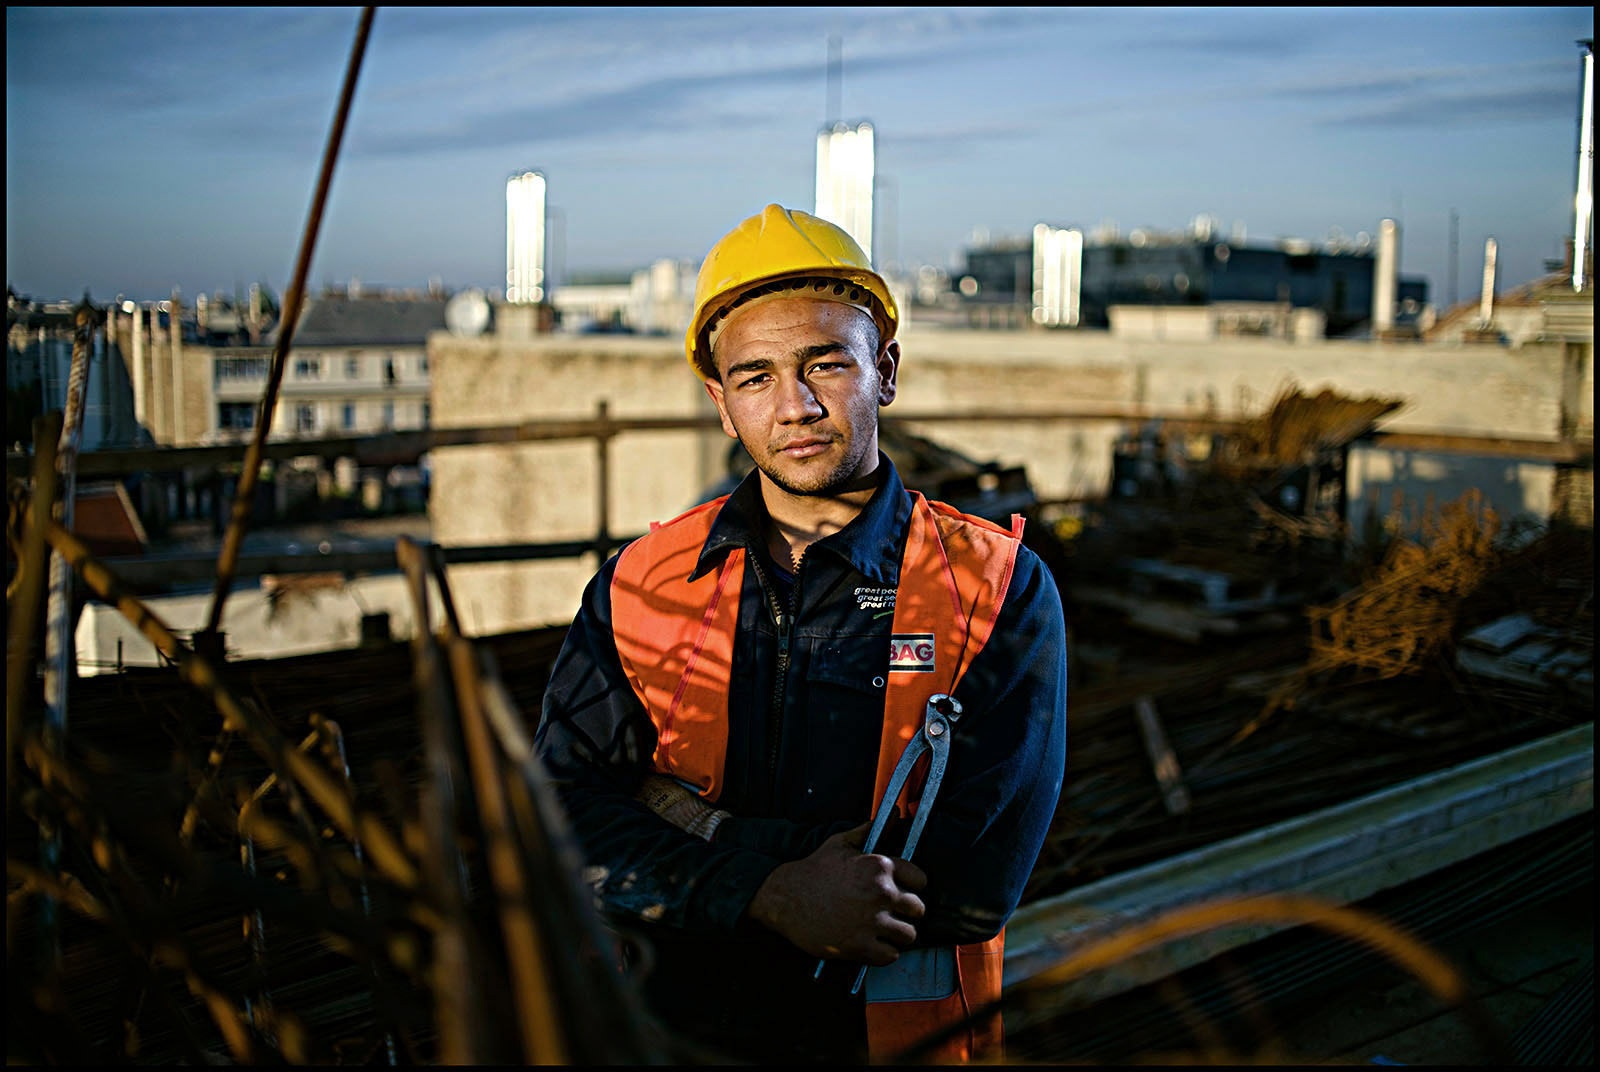yellow: (694, 208, 899, 491)
